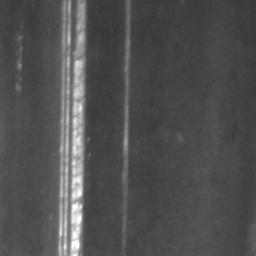Bright scratch: (59, 0, 87, 256), (120, 0, 131, 256)
